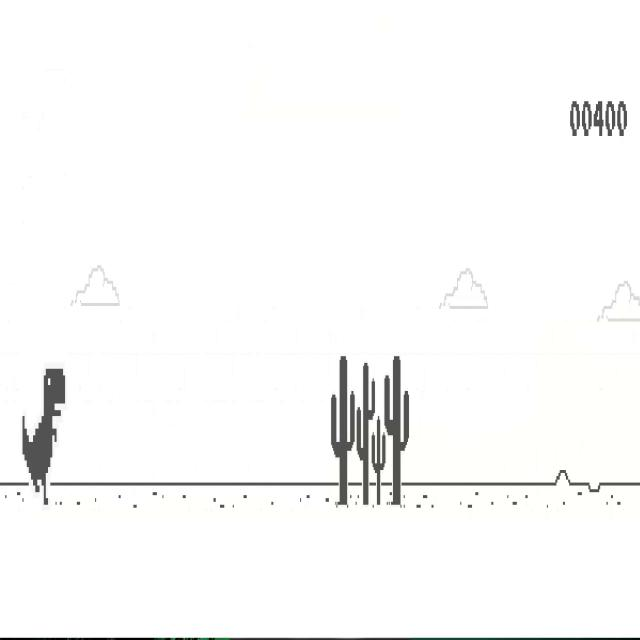cacto: (330, 354, 355, 508), (384, 354, 409, 507), (356, 361, 375, 507), (371, 416, 386, 507)
dino: (21, 368, 66, 507)
